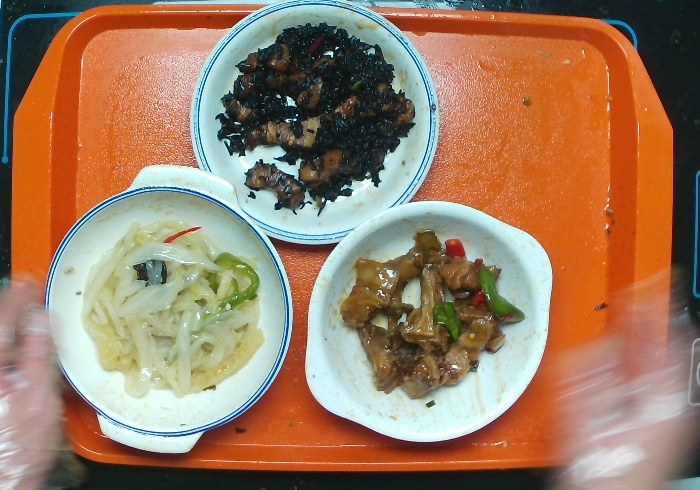HZYJPL-Dai_Er_Bai_Yuan_Wan: (303, 201, 555, 444)
HZYJPL-Lan_Bian_Dai_Er_Wan: (42, 165, 296, 460)
HZYJPL-Lan_Bian_Yuan_Die: (188, 1, 439, 246)
